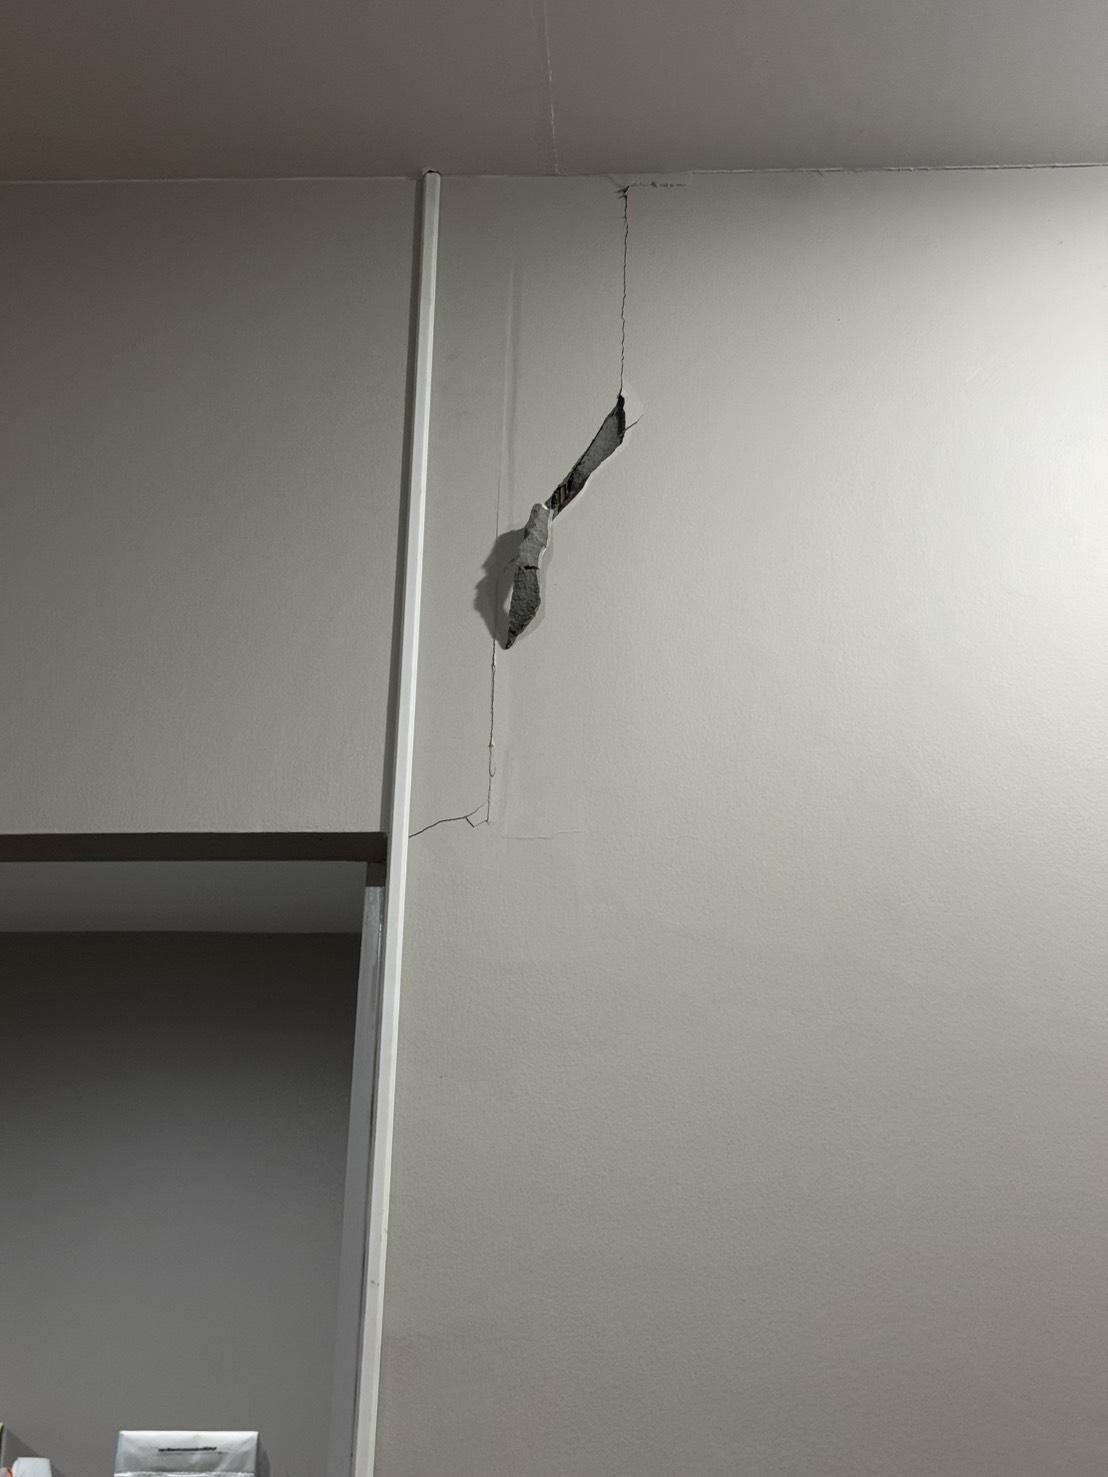Low: (402, 168, 743, 852)
